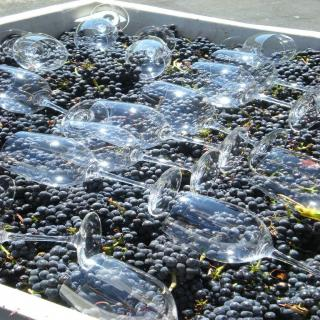Grape: (0, 28, 320, 320)
